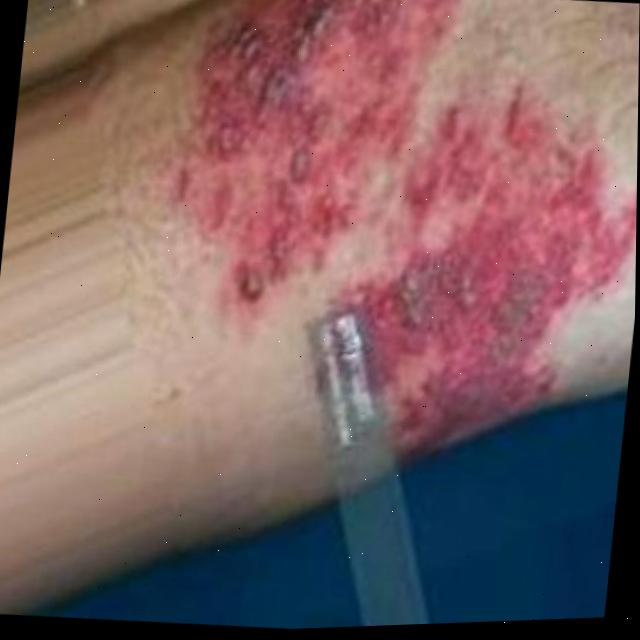Shingles: (318, 82, 638, 475), (159, 0, 463, 320)
